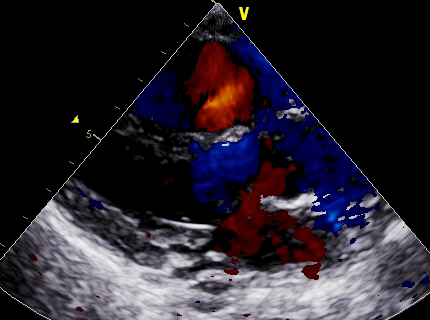AR: (243, 143, 307, 211)
